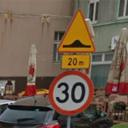speed_limit_30: (48, 68, 94, 116)
